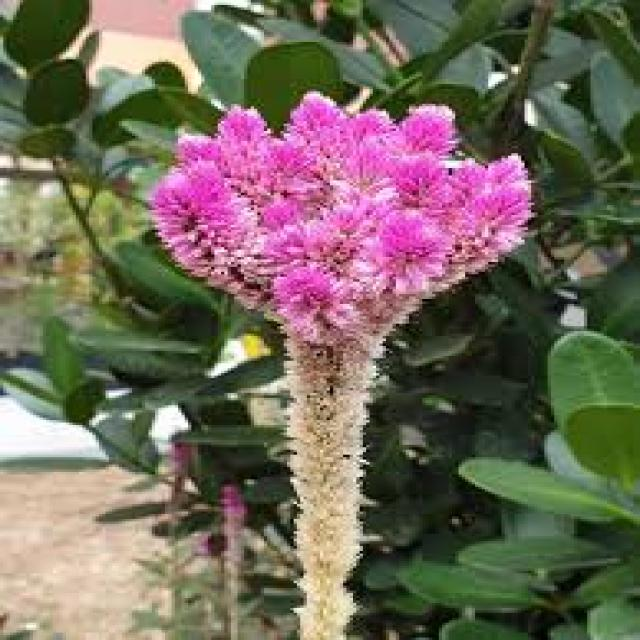Celosia-Argentea: (145, 92, 535, 638)
